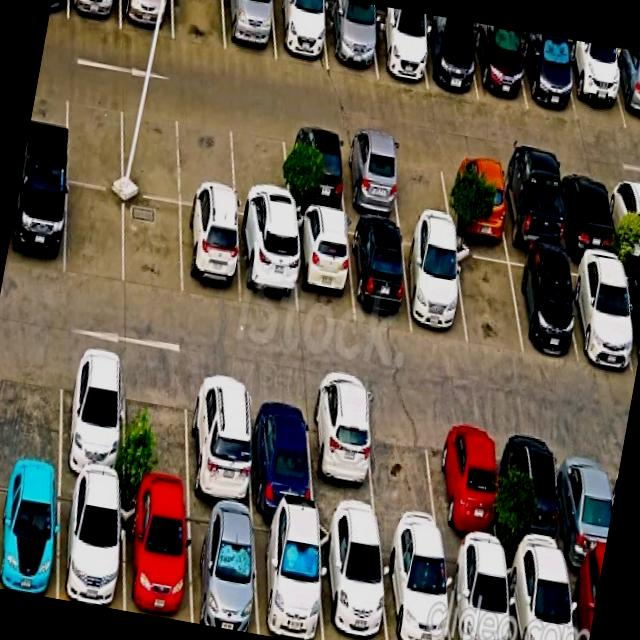empty: (367, 406, 441, 543), (309, 396, 377, 533), (125, 360, 189, 499), (0, 339, 62, 473), (454, 241, 522, 353), (231, 115, 289, 223), (121, 95, 179, 202), (65, 183, 124, 284), (66, 85, 122, 190), (180, 106, 235, 212), (125, 194, 181, 297), (391, 141, 451, 228), (172, 0, 225, 50)
occupied: (187, 502, 258, 634), (433, 415, 500, 554), (122, 490, 191, 622), (188, 372, 252, 510), (60, 347, 123, 487), (249, 383, 313, 519), (253, 514, 322, 640), (58, 478, 123, 610), (505, 425, 566, 563), (318, 524, 387, 640), (566, 254, 635, 369), (0, 469, 60, 598), (507, 249, 577, 357), (401, 229, 467, 343), (557, 435, 613, 568), (380, 538, 450, 640), (348, 220, 411, 330), (293, 211, 353, 323), (5, 169, 67, 275), (443, 545, 511, 640), (180, 205, 240, 305), (236, 216, 296, 315), (499, 160, 563, 251), (505, 555, 573, 640), (445, 151, 507, 240), (284, 125, 345, 214), (340, 133, 400, 221), (563, 44, 625, 128), (557, 168, 616, 254), (519, 33, 576, 119), (471, 25, 527, 109), (420, 21, 477, 99), (370, 12, 427, 88), (324, 3, 376, 77), (272, 0, 327, 69), (223, 0, 276, 60), (566, 564, 601, 640), (608, 175, 640, 257), (609, 51, 640, 131), (621, 262, 640, 372), (120, 0, 173, 38), (68, 0, 120, 29)
